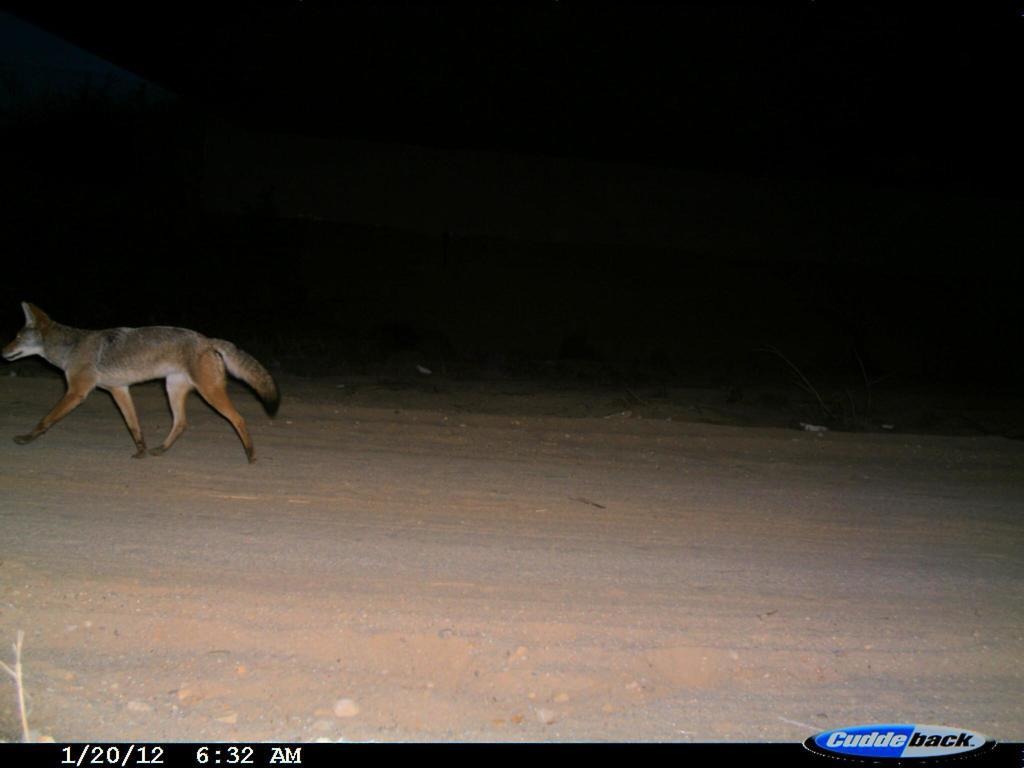coyote: (4, 282, 285, 482)
